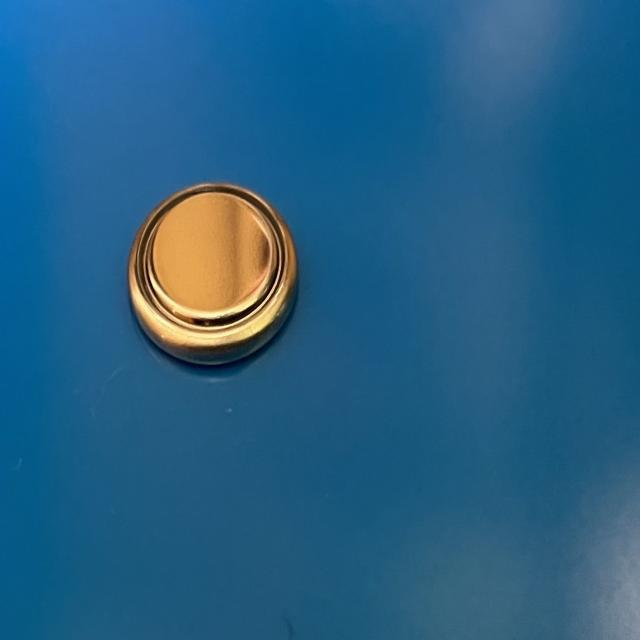COIN: (128, 184, 302, 368)
